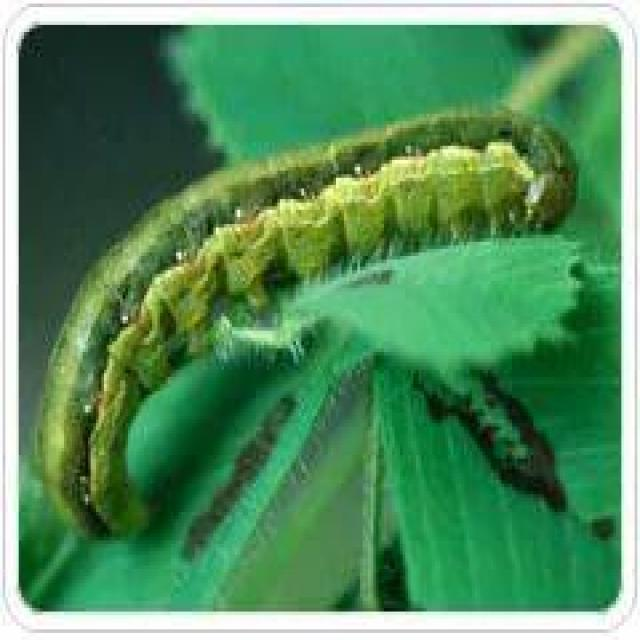BeetArmyWorm-Larva-: (35, 102, 581, 528)
